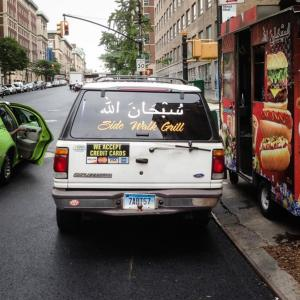Vehicle-registration-plate: (124, 194, 156, 210)
